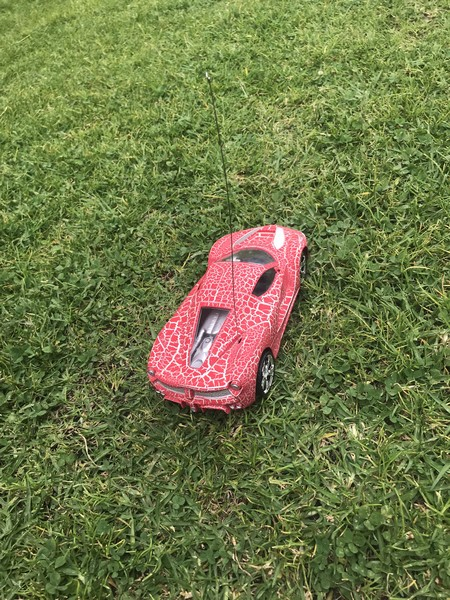RC: (144, 222, 311, 418)
